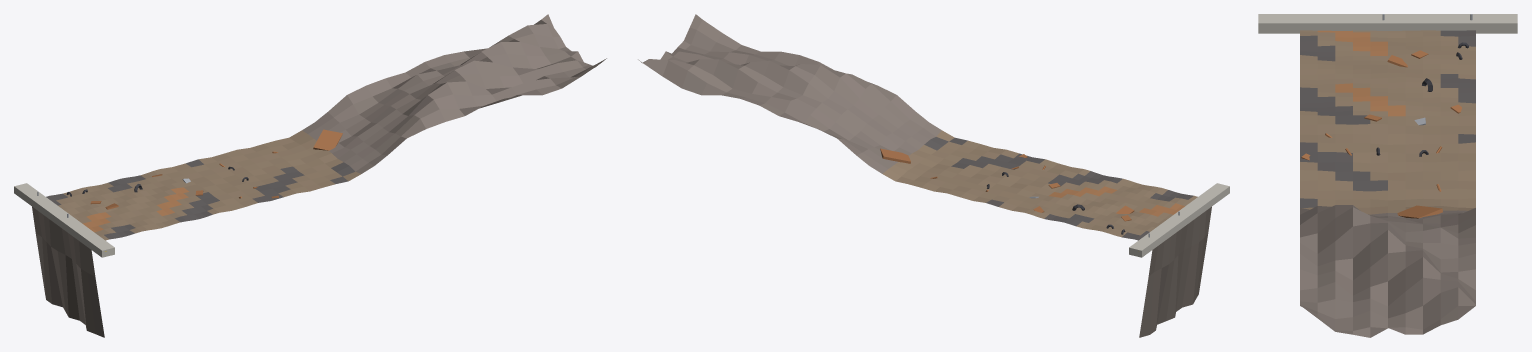
Rendered from env_side_terrain.glb.
3 views of the same model, side by side, from view 1: azimuth 30°, elevation 25°; view 2: azimuth 150°, elevation 25°; view 3: azimuth 270°, elevation 25° (orthographic). The views are drawn at different scales.
Parts seen in each view (by area): view 1: env_side_terrain; view 2: env_side_terrain; view 3: env_side_terrain.
Boxes of the visible parts, <box> form: env_side_terrain: <box>14,14,606,337</box>; env_side_terrain: <box>638,14,1229,337</box>; env_side_terrain: <box>1258,14,1517,337</box>.
Bounding box in the file's own units: 40.22 × 11.72 × 11.8.
